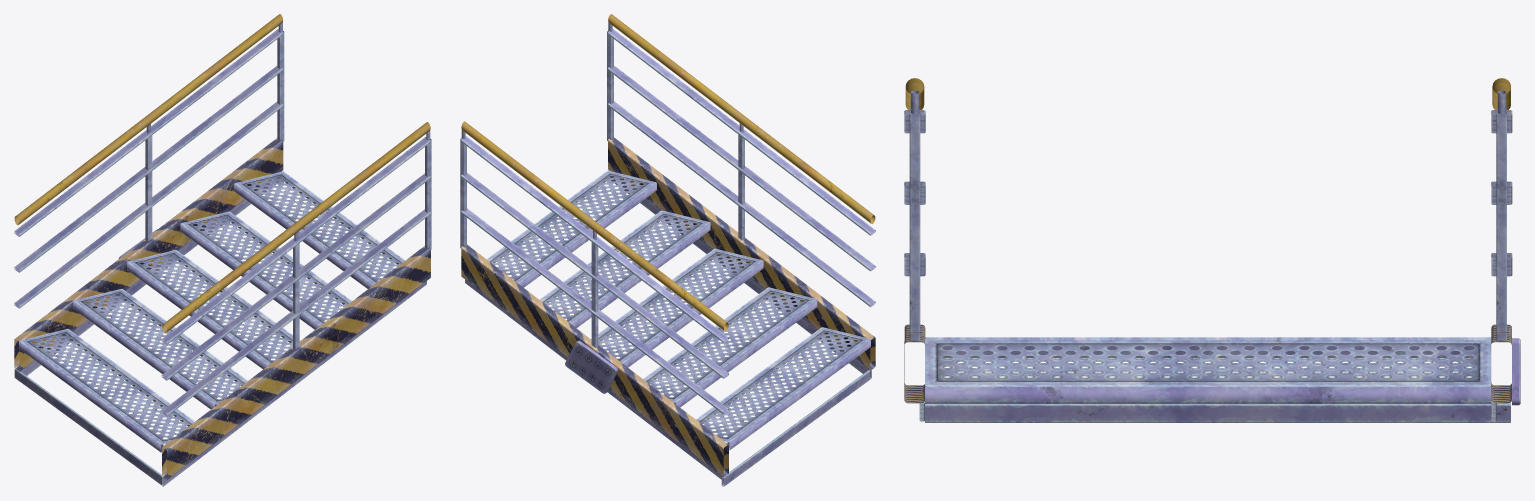
Rendered from SM_WalkwayStairs.fbx.
The picture shows the model from 3 angles, left to right: view 1: azimuth 30°, elevation 25°; view 2: azimuth 150°, elevation 25°; view 3: azimuth 270°, elevation 25°; orthographic projection. The views are drawn at different scales.
Parts seen in each view (by area): view 1: SM_Stairs; view 2: SM_Stairs; view 3: SM_Stairs.
Part boxes in pixels (bbox=[...]): SM_Stairs: bbox=[14, 14, 431, 486]; SM_Stairs: bbox=[460, 14, 875, 486]; SM_Stairs: bbox=[904, 78, 1520, 422].
Size of the model in its own units: 607 by 655 by 610.
